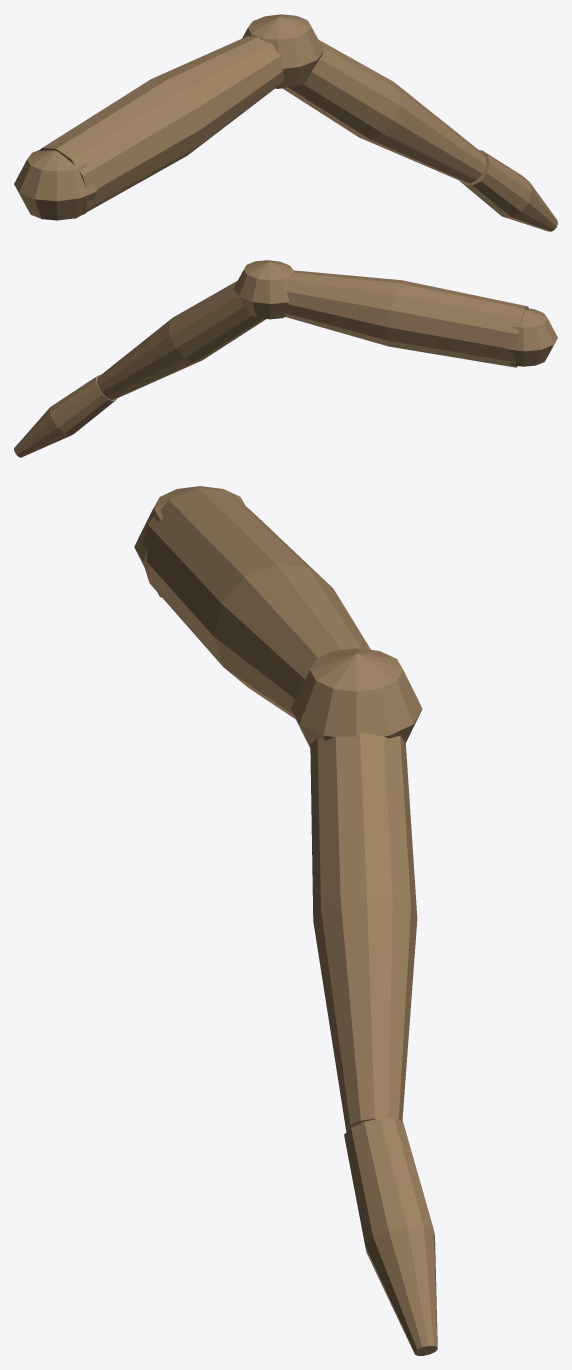
File: scorpion_leg_r2_original_01.glb
The picture shows the model from 3 angles, top to bottom: view 1: azimuth 30°, elevation 25°; view 2: azimuth 150°, elevation 25°; view 3: azimuth 270°, elevation 25°; orthographic projection. The views are drawn at different scales.
Parts seen in each view (by area): view 1: S0_RLeg2Segment1, S0_RLeg2Segment2, S0_RLeg2Joint0, S0_RLeg2Segment3, S0_RLeg2Joint1; view 2: S0_RLeg2Segment1, S0_RLeg2Segment2, S0_RLeg2Segment3, S0_RLeg2Joint1, S0_RLeg2Joint0; view 3: S0_RLeg2Segment2, S0_RLeg2Segment1, S0_RLeg2Segment3, S0_RLeg2Joint1.
Part boxes in pixels (bbox=[...]): S0_RLeg2Segment1: bbox=[39, 36, 283, 218]; S0_RLeg2Segment2: bbox=[282, 40, 485, 183]; S0_RLeg2Joint0: bbox=[14, 150, 97, 220]; S0_RLeg2Segment3: bbox=[459, 150, 557, 231]; S0_RLeg2Joint1: bbox=[242, 14, 324, 88]; S0_RLeg2Segment1: bbox=[284, 270, 528, 367]; S0_RLeg2Segment2: bbox=[97, 281, 265, 399]; S0_RLeg2Segment3: bbox=[14, 375, 116, 457]; S0_RLeg2Joint1: bbox=[233, 260, 294, 319]; S0_RLeg2Joint0: bbox=[505, 308, 557, 366]; S0_RLeg2Segment2: bbox=[310, 733, 417, 1131]; S0_RLeg2Segment1: bbox=[143, 488, 370, 719]; S0_RLeg2Segment3: bbox=[344, 1118, 437, 1355]; S0_RLeg2Joint1: bbox=[290, 648, 422, 747].
Size of the model in its own units: 0.6419 by 0.3032 by 0.1747.
